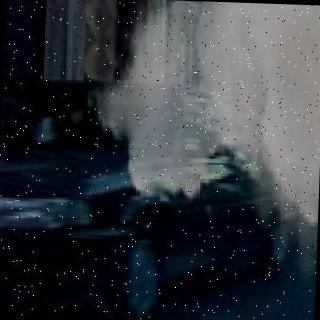smoke: (151, 0, 320, 250)
